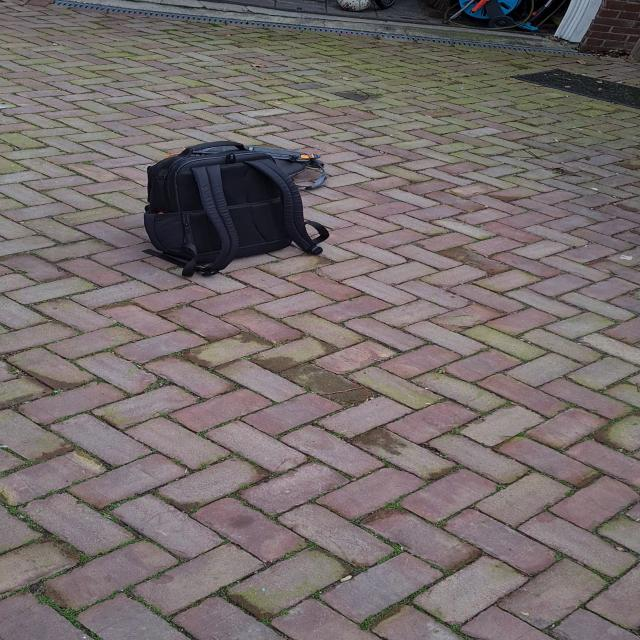backpack: (131, 134, 317, 276), (245, 144, 330, 192)
